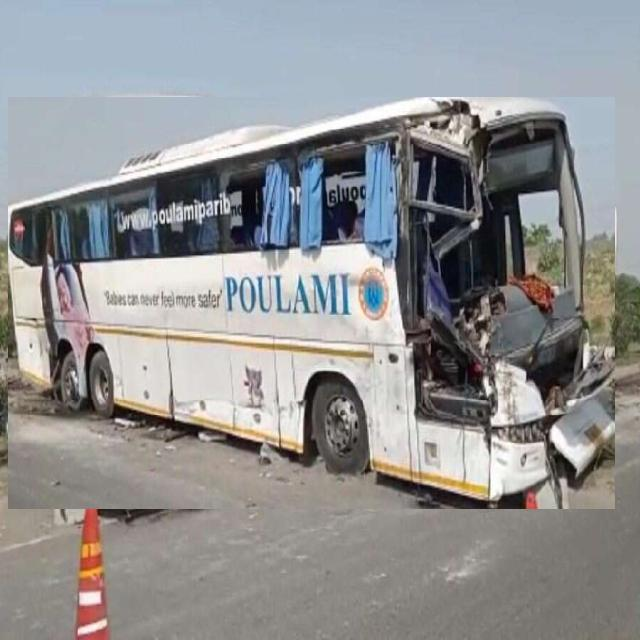accident: (8, 97, 615, 509)
